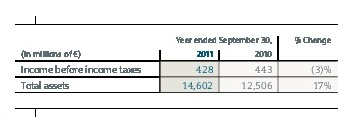table: (0, 0, 353, 132)
